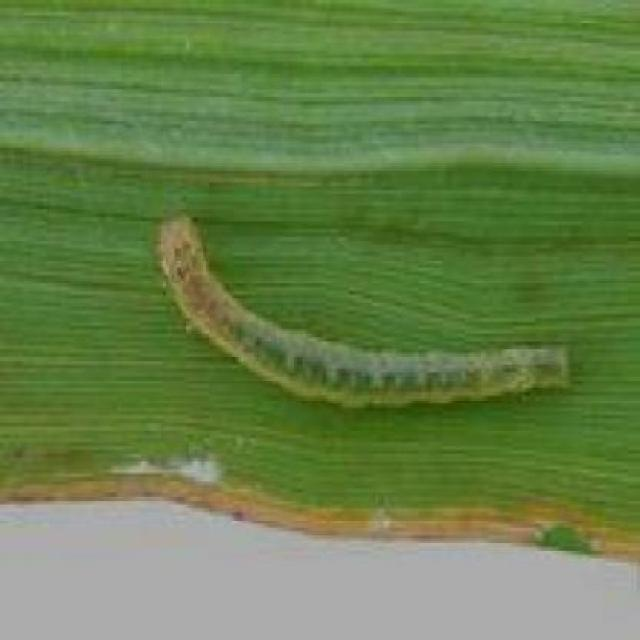leaf-folder: (146, 206, 588, 419)
